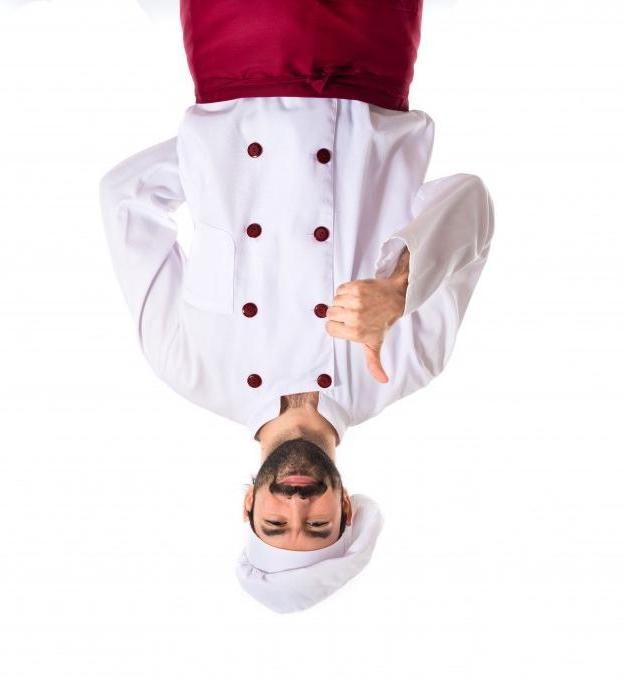thumbsdown: (325, 279, 389, 384)
